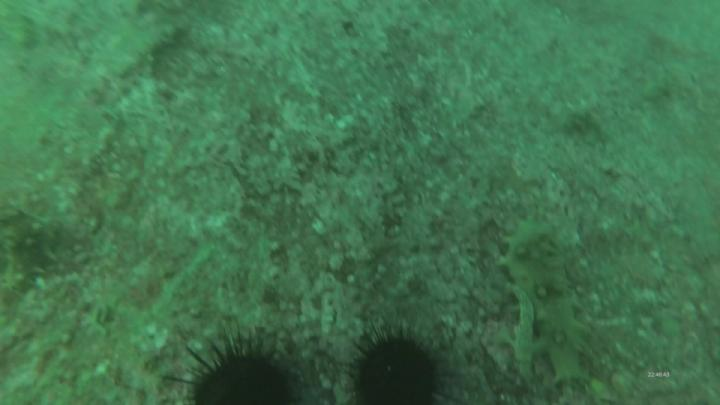echinus: (164, 324, 303, 405), (344, 320, 452, 405)
holothurian: (501, 213, 593, 397), (2, 206, 53, 303)
